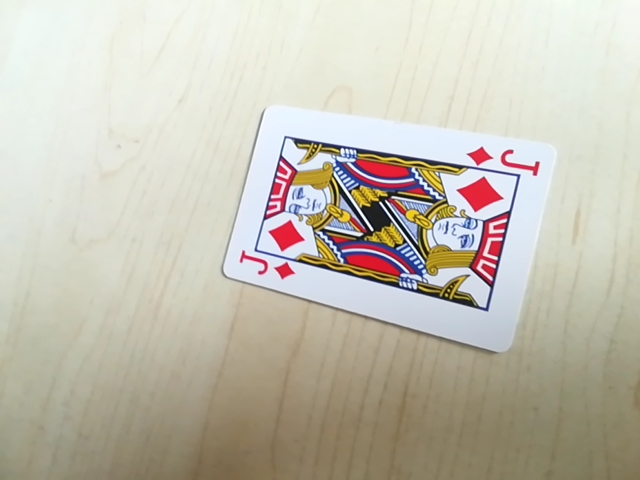fk j: (470, 144, 540, 176), (236, 254, 297, 286)
